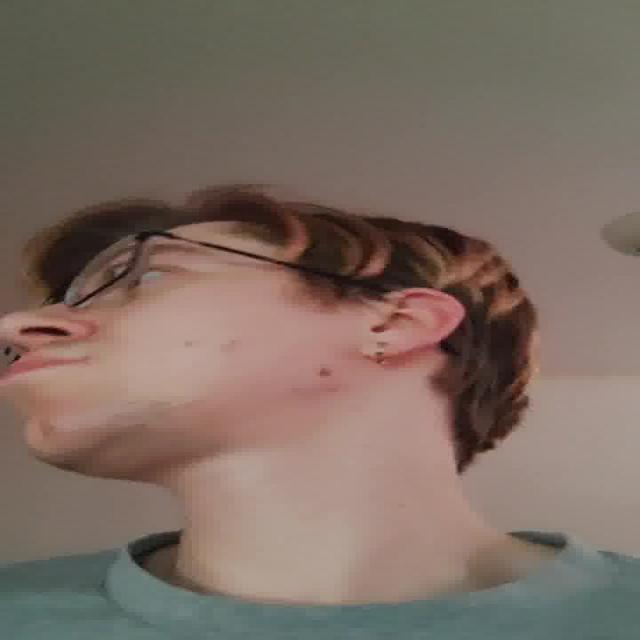earlobe: (356, 287, 462, 361)
